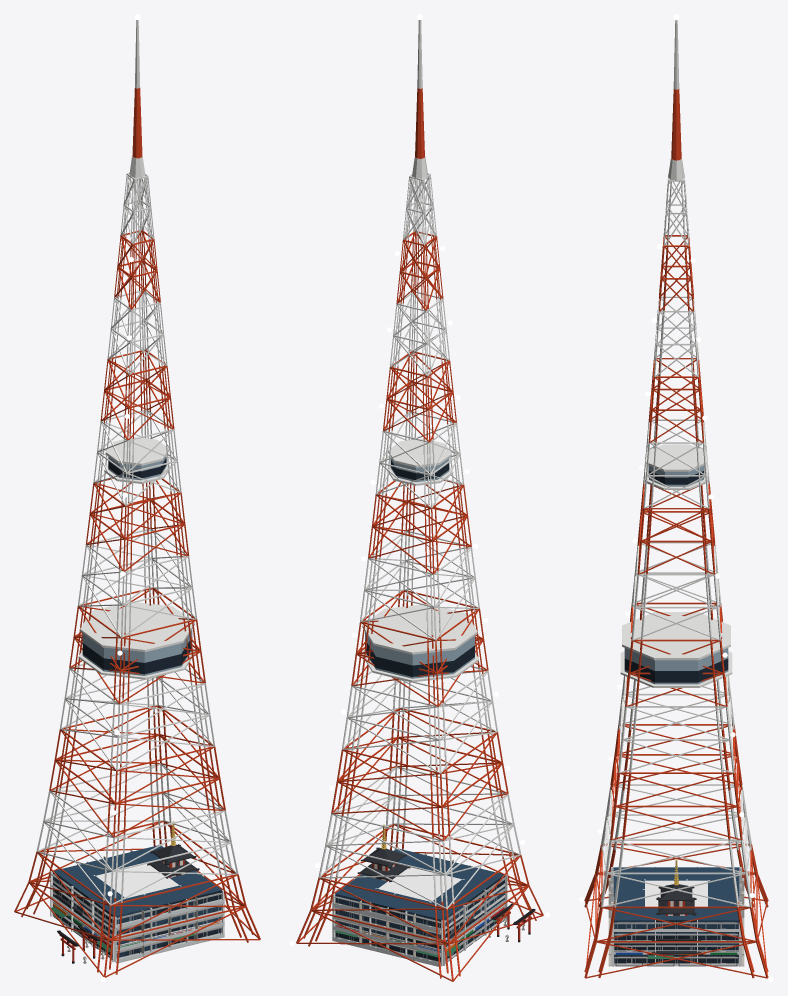
File: city_tokyo.glb
The picture shows the model from 3 angles, left to right: view 1: azimuth 30°, elevation 25°; view 2: azimuth 150°, elevation 25°; view 3: azimuth 270°, elevation 25°; orthographic projection.
Visible parts, largest first — view 1: L_tower, S0w, S0wl, L_temple, S1w, S1n, S2w, S3w, G0w, S4w; view 2: L_tower, S0w, S0wl, L_temple, S1w, S1n, S2w, S3w, G0w, S4w; view 3: L_tower, S0w, S0wl, L_temple, G0w, S3w, S2w, S1n, S2wl, S4w, S1w.
Part boxes in pixels (<box>): L_tower: <box>14,14,260,981</box>; S0w: <box>54,845,221,941</box>; S0wl: <box>53,873,221,949</box>; L_temple: <box>55,821,199,963</box>; S1w: <box>59,849,224,958</box>; S1n: <box>95,863,179,898</box>; S2w: <box>50,844,224,952</box>; S3w: <box>50,847,222,942</box>; G0w: <box>51,901,221,959</box>; S4w: <box>54,874,218,946</box>; L_tower: <box>289,14,550,981</box>; S0w: <box>335,848,504,942</box>; S0wl: <box>335,876,504,950</box>; L_temple: <box>357,824,535,942</box>; S1w: <box>332,853,498,960</box>; S1n: <box>378,867,461,901</box>; S2w: <box>332,847,507,961</box>; S3w: <box>334,850,506,945</box>; G0w: <box>335,904,505,963</box>; S4w: <box>335,881,502,950</box>; L_tower: <box>579,14,773,981</box>; S0w: <box>613,867,739,962</box>; S0wl: <box>614,920,738,962</box>; L_temple: <box>649,860,703,955</box>; G0w: <box>613,897,744,966</box>; S3w: <box>610,869,742,949</box>; S2w: <box>611,866,741,961</box>; S1n: <box>645,880,707,906</box>; S2wl: <box>614,924,737,950</box>; S4w: <box>614,921,735,952</box>; S1w: <box>608,878,744,954</box>.
Bounding box in the file's own units: 57.09 × 292 × 55.59.
